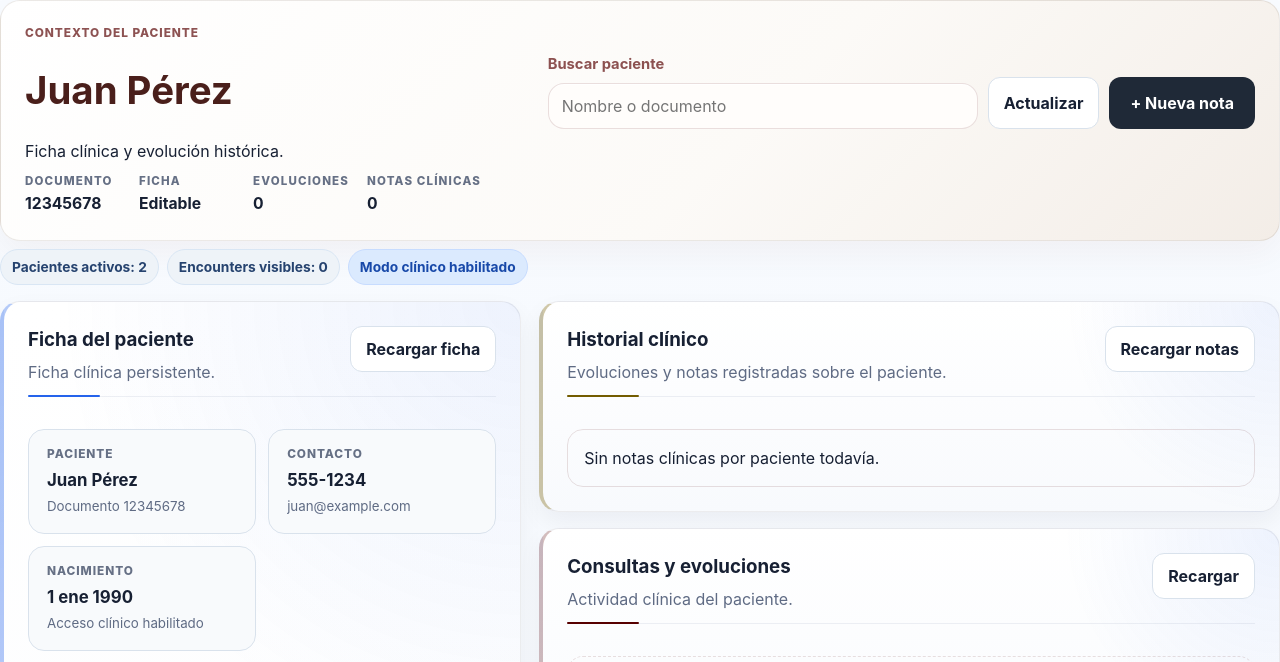
it: PatientsWorkspace › clears previous patient ficha values when the newly selected patient history load fails
The width and height of the screenshot is (1280, 662).
Focus the search field labelled "Buscar paciente" at (763, 106), box [548,83,978,129]
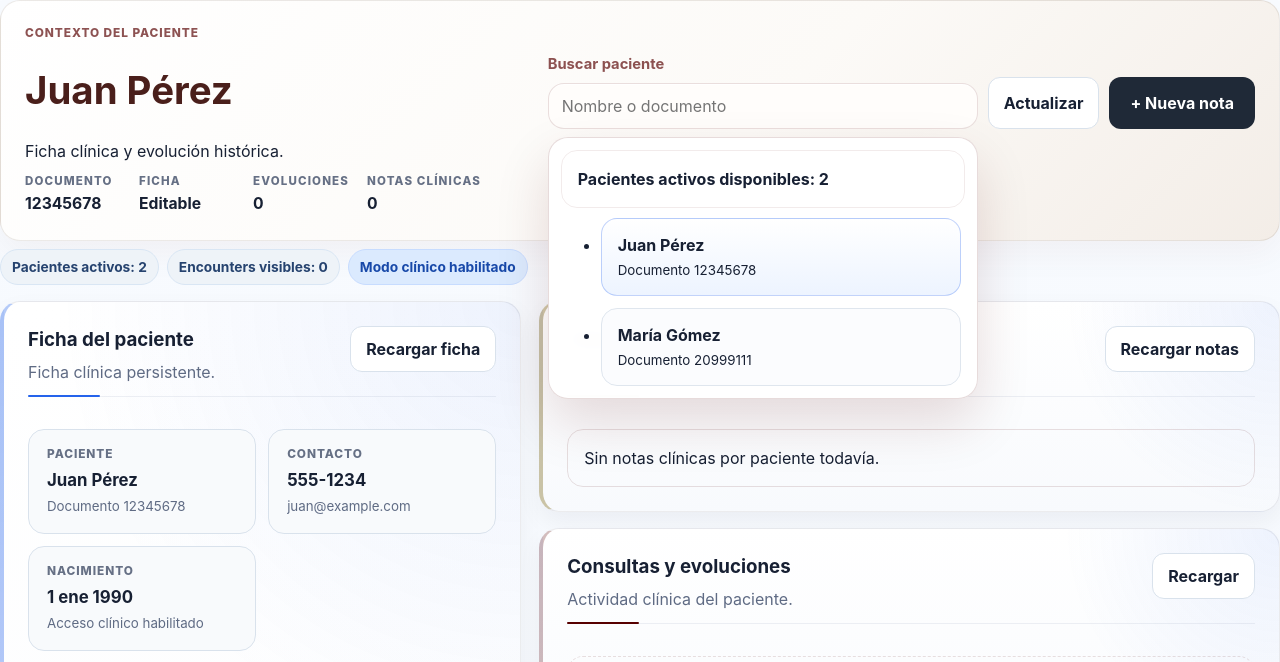
Click the option "María Gómez Documento 20999111" at (640, 335), box [601,308,961,386]
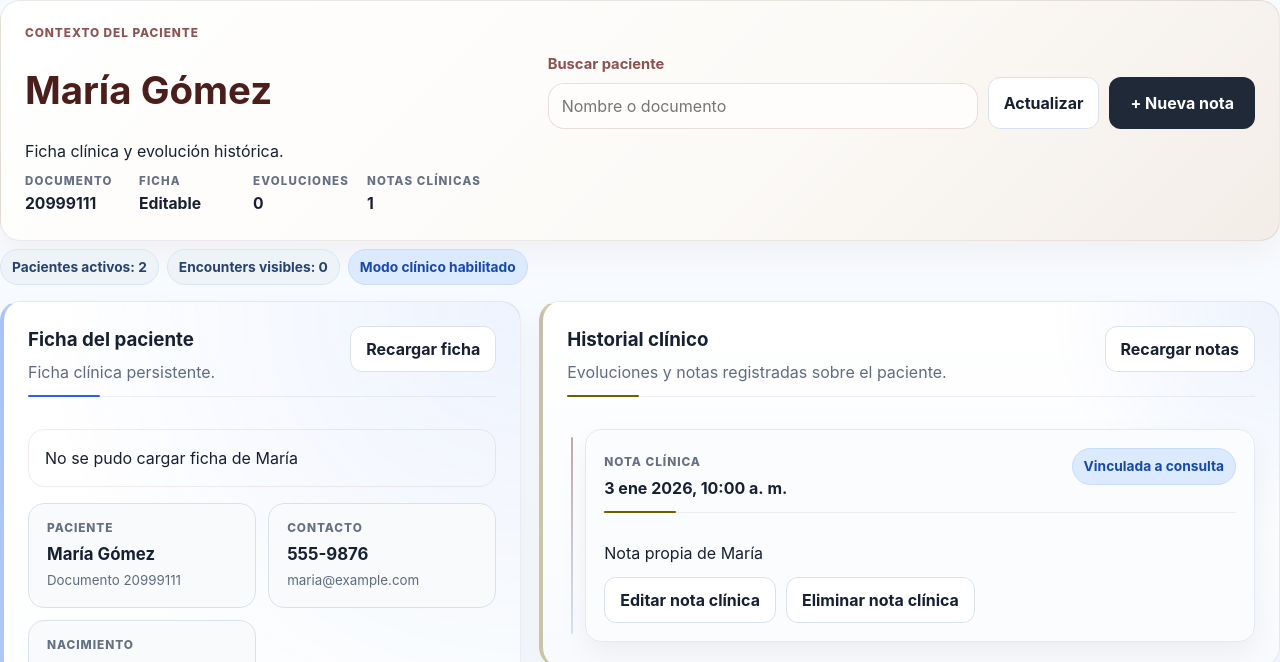
Expected: the text "No se pudo cargar ficha de María" is shown, [28,429,496,487]
Expected: the text "Nota propia de María" is shown, [604,543,763,563]
